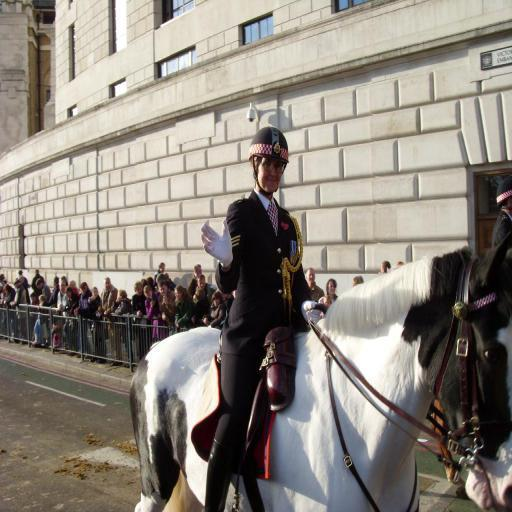horse: (128, 230, 512, 512), (429, 398, 463, 499)
